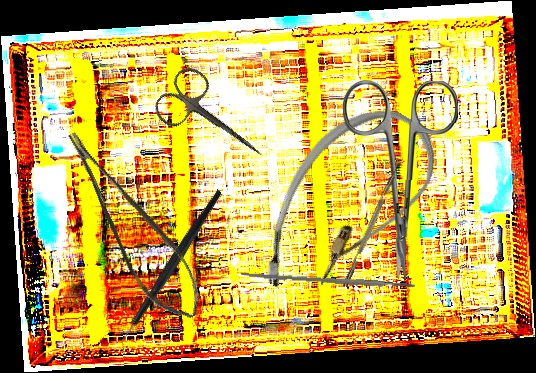Cannula: (239, 82, 455, 329)
Chopper: (78, 188, 266, 357), (337, 154, 404, 288)
Iris Scissors: (339, 79, 459, 280), (149, 60, 280, 182)
Micro Scissor: (61, 112, 212, 334)
Scalpel Handle: (240, 270, 416, 291)
